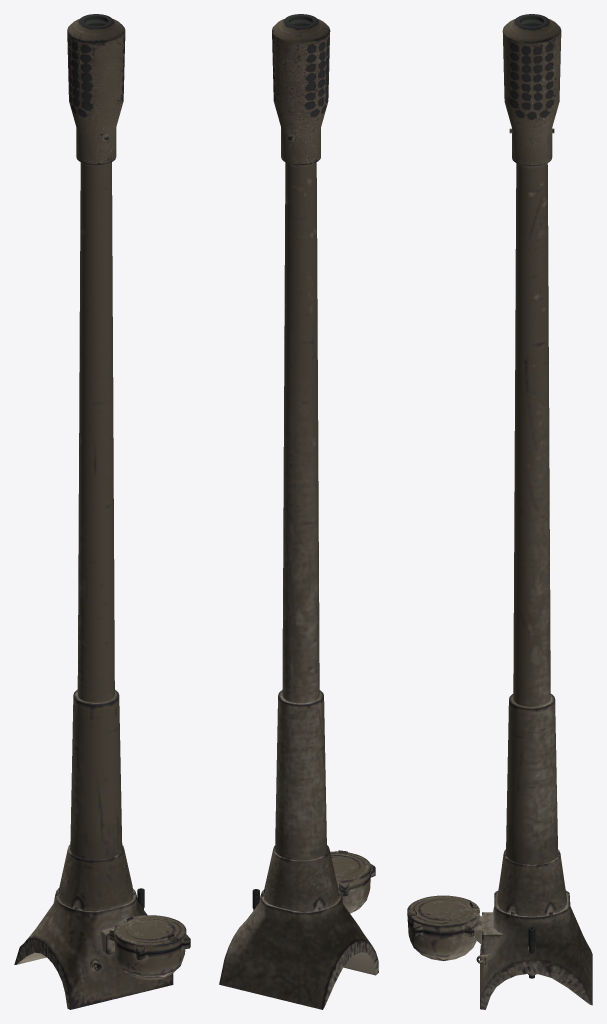
File: Gun_03.glb
The picture shows the model from 3 angles, left to right: view 1: azimuth 30°, elevation 25°; view 2: azimuth 150°, elevation 25°; view 3: azimuth 270°, elevation 25°; orthographic projection.
Visible parts, largest first — view 1: set_0_group_0; view 2: set_0_group_0; view 3: set_0_group_0.
Boxes of the visible parts, <box> form: set_0_group_0: <box>14,14,190,1009</box>; set_0_group_0: <box>219,14,378,1009</box>; set_0_group_0: <box>407,14,592,1009</box>.
Size of the model in its own units: 0.5734 by 5.06 by 0.8837.
1 material, 1 textured.
